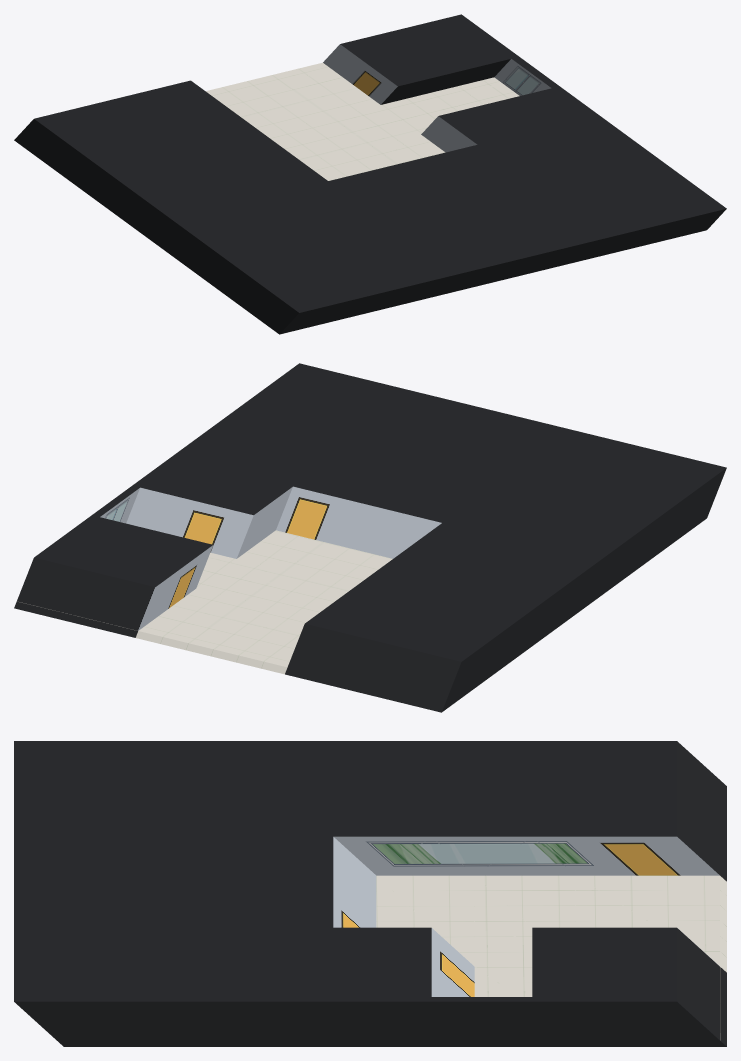
3 renders of one model, top to bottom at view 1: azimuth 30°, elevation 25°; view 2: azimuth 150°, elevation 25°; view 3: azimuth 270°, elevation 25°, orthographic. The views are drawn at different scales.
Parts seen in each view (by area): view 1: 主樓層_2F, 房間天花板_2F, 房間牆_2F; view 2: 主樓層_2F, 房間牆_2F, 房間天花板_2F, 房間地板_2F; view 3: 主樓層_2F, 房間天花板_2F, 房間牆_2F, 房間地板_2F.
Boxes of the visible parts, <box> form: 主樓層_2F: <box>14,57,726,334</box>; 房間天花板_2F: <box>340,14,518,104</box>; 房間牆_2F: <box>323,44,397,104</box>; 主樓層_2F: <box>92,363,726,712</box>; 房間牆_2F: <box>17,545,213,630</box>; 房間天花板_2F: <box>34,515,212,586</box>; 房間地板_2F: <box>14,601,137,637</box>; 主樓層_2F: <box>14,741,726,1046</box>; 房間天花板_2F: <box>532,927,719,1040</box>; 房間牆_2F: <box>677,928,719,1039</box>; 房間地板_2F: <box>576,967,726,1046</box>.
Bounding box in the file's own units: 5972 × 483 × 6904.
